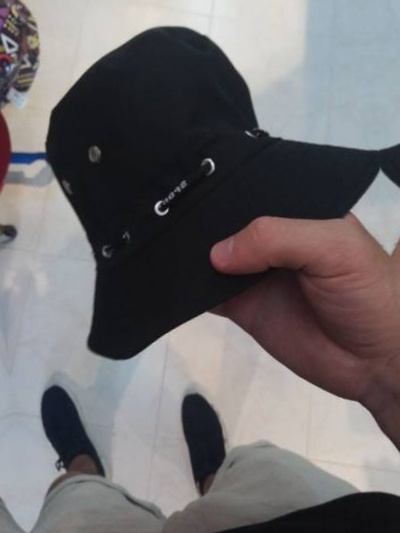Hat: (31, 0, 392, 384), (369, 0, 400, 346)
